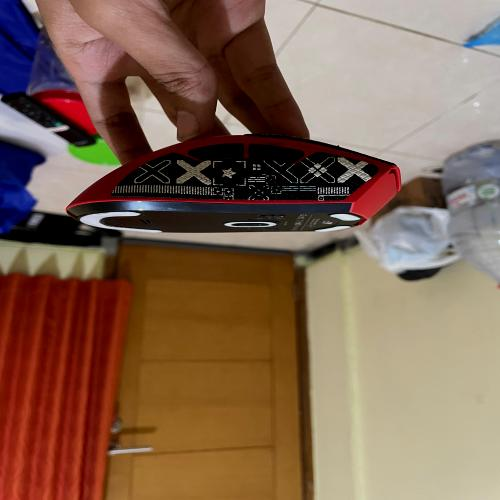Mouse: (53, 124, 419, 248)
